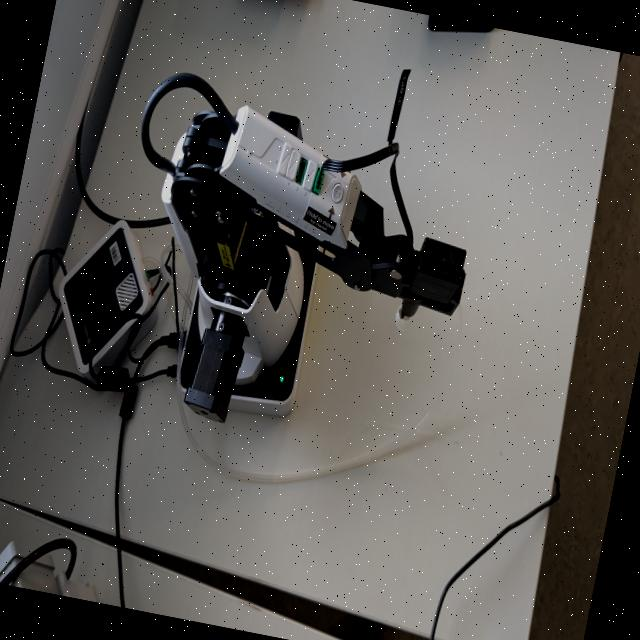Robot-end-effector-HF8z: (386, 228, 474, 348)
